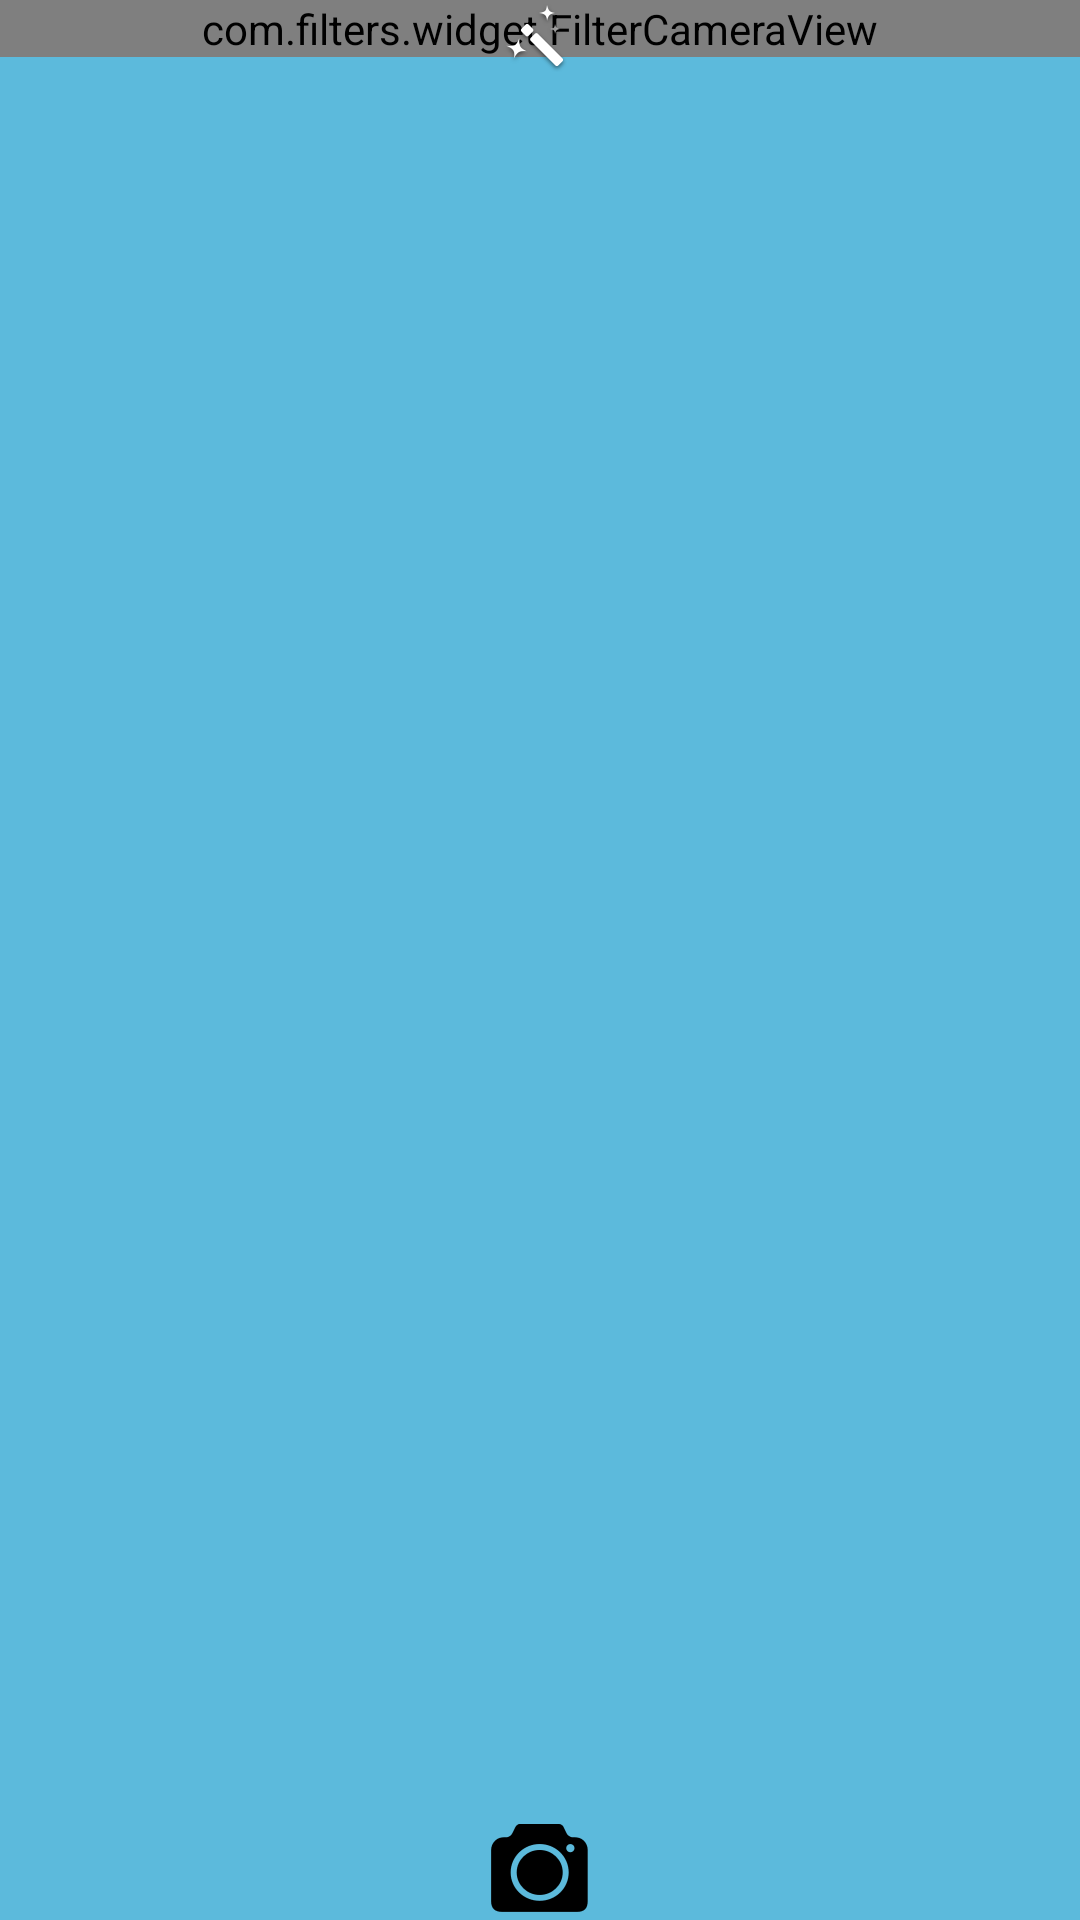

Where to tap for icons on this 1080w x 1920h app screen, as point (x, y):
camera filter: point (540, 40)
camera shutter: point (539, 1868)
